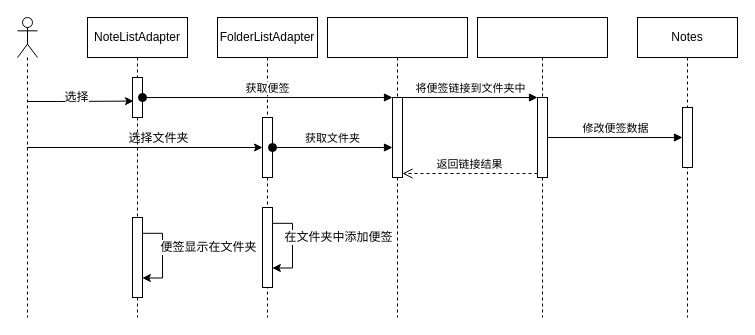
The diagram is 755 pixels wide and 335 high, and some of its shapes have lost their labels. The shapes that lost their labels are listed below. From the top down, each one's centre as x and y in pixels, then its label:
At (397,167): "ContentProviderOperation".
At (542,167): "ContentProviderResult".
